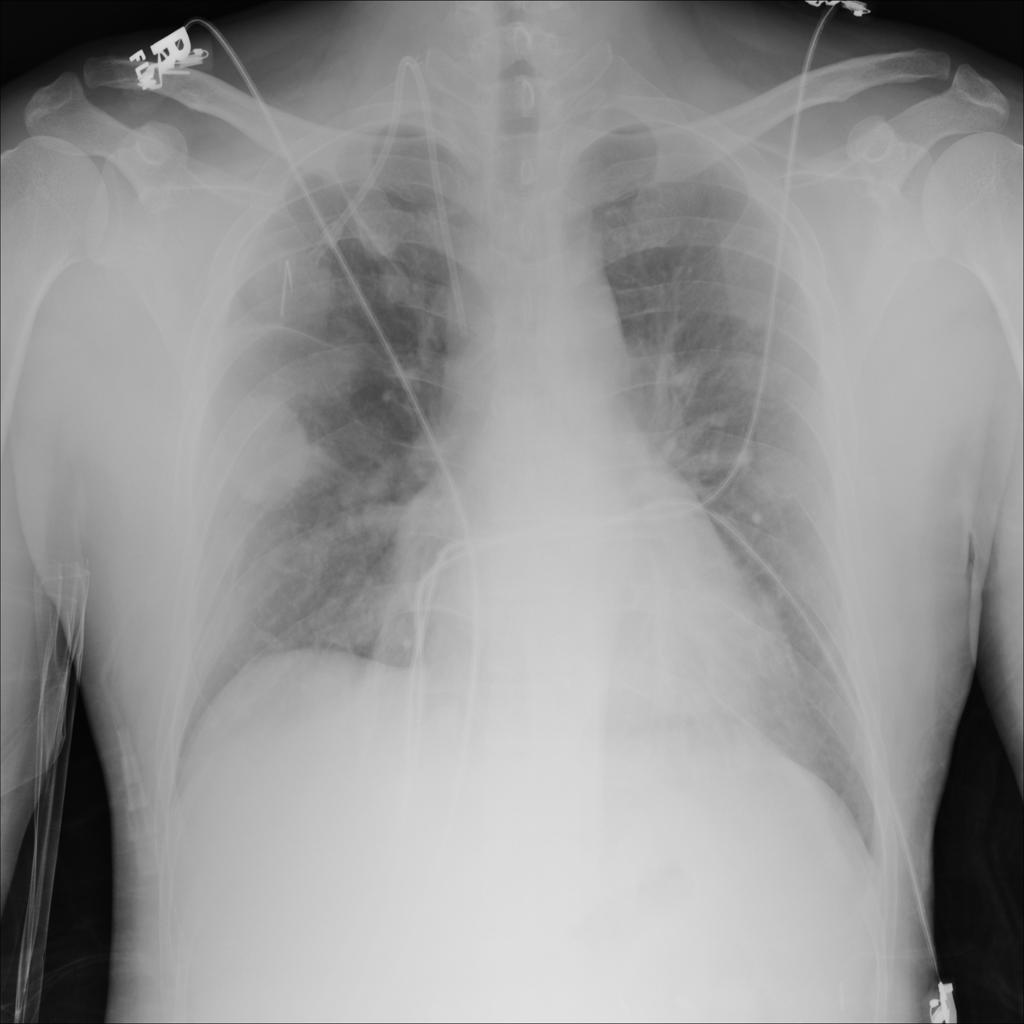nodule: (204, 374, 337, 516), (250, 225, 357, 360), (369, 256, 418, 312)
